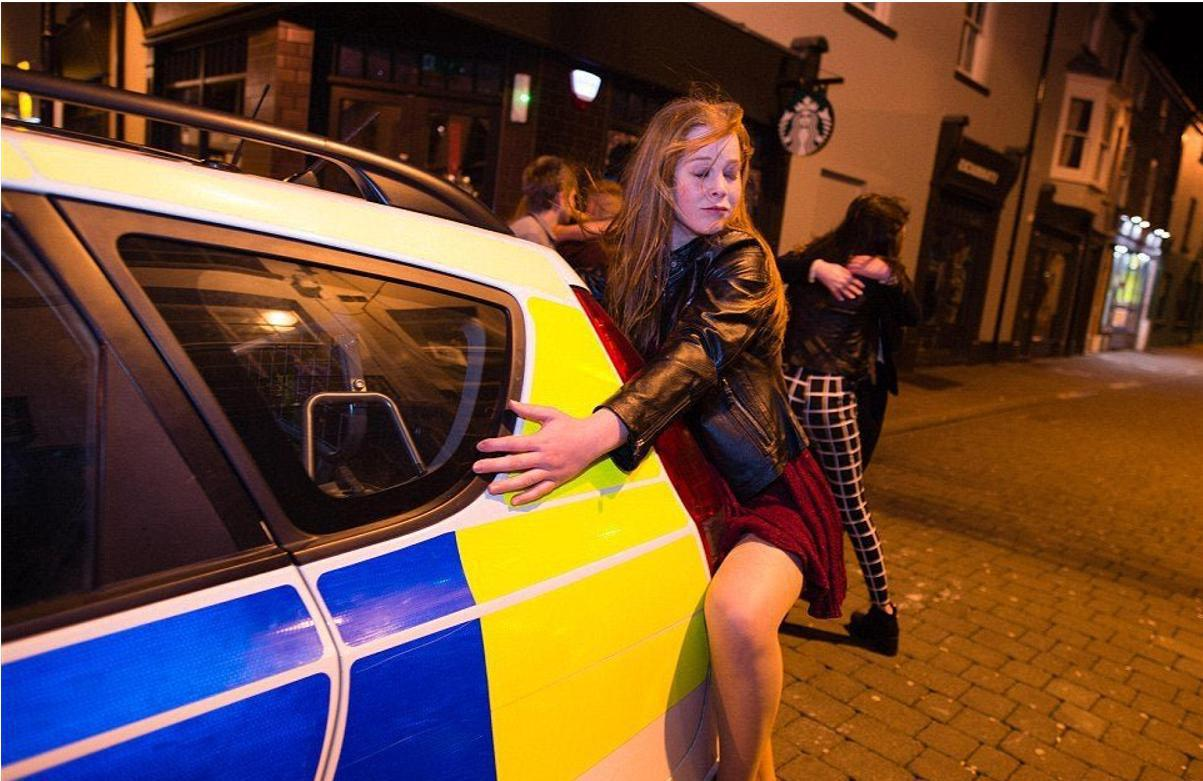Drunk: (672, 134, 743, 233)
